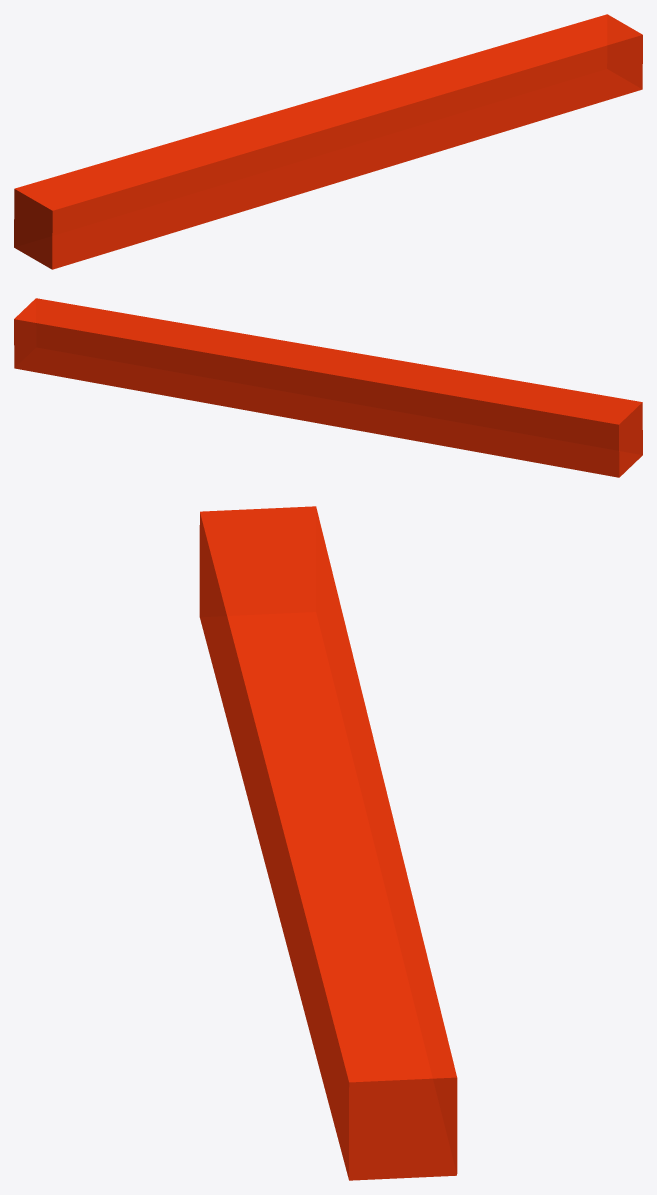
The model's file is Event_421556567_EErechit_38.fbx.
3 renders of one model, top to bottom at view 1: azimuth 30°, elevation 25°; view 2: azimuth 150°, elevation 25°; view 3: azimuth 270°, elevation 25°, orthographic. The views are drawn at different scales.
Parts seen in each view (by area): view 1: Model; view 2: Model; view 3: Model.
Part boxes in pixels (x1,y1,x2,y2): Model: (14,14,642,269); Model: (14,298,642,477); Model: (199,506,457,1180).
Size of the model in its own units: 0.8867 by 0.0838 by 0.1719.
